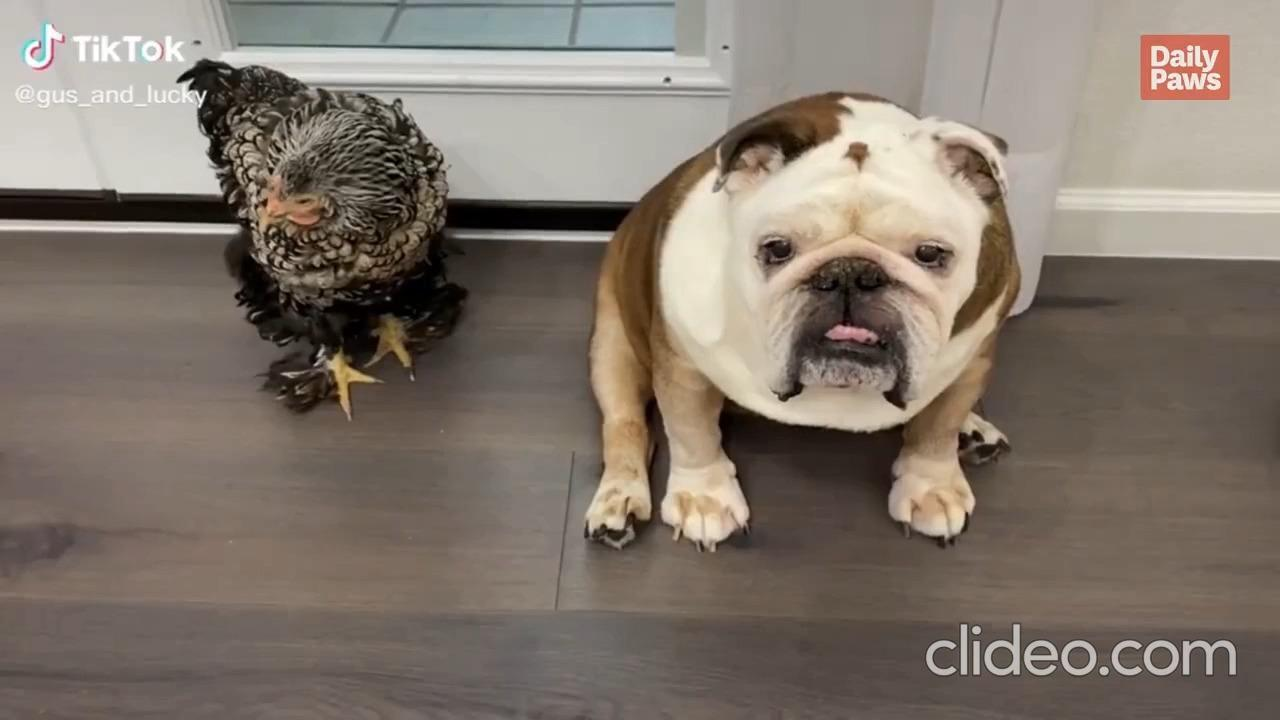Normal: (209, 130, 472, 420)
